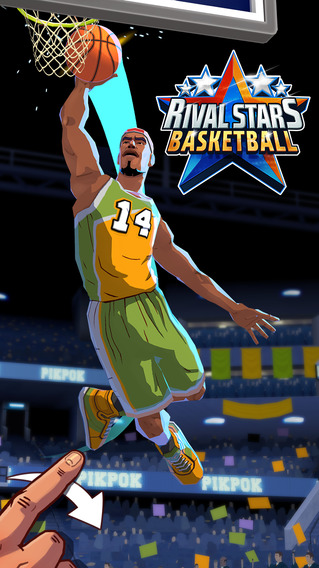ball: (65, 24, 118, 83)
